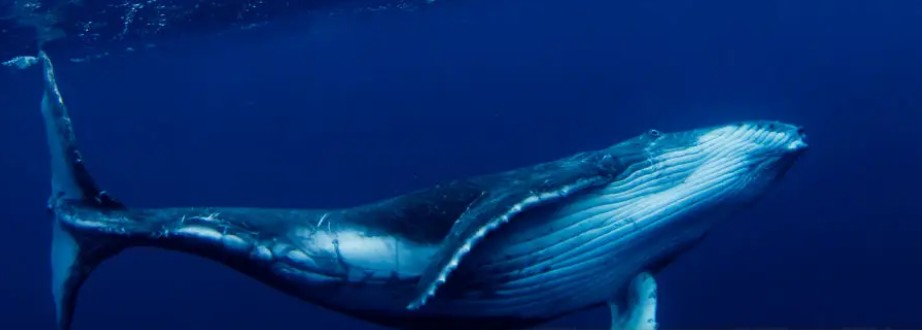whale: (22, 120, 813, 328)
